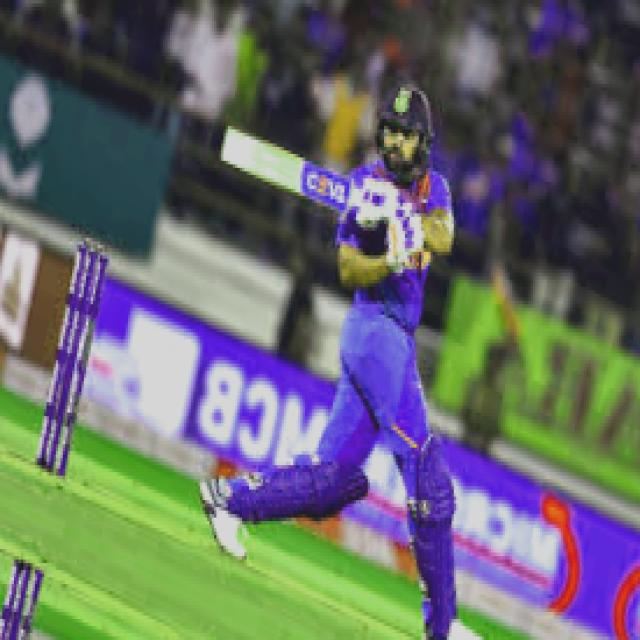toe: (217, 124, 246, 168)
